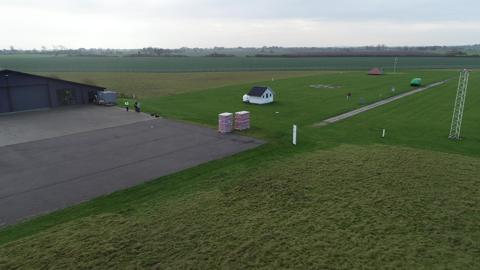RockwoolPallet: (235, 109, 251, 132)
